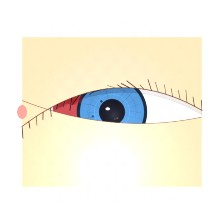hemorrhage_spot: (41, 73, 130, 144)
